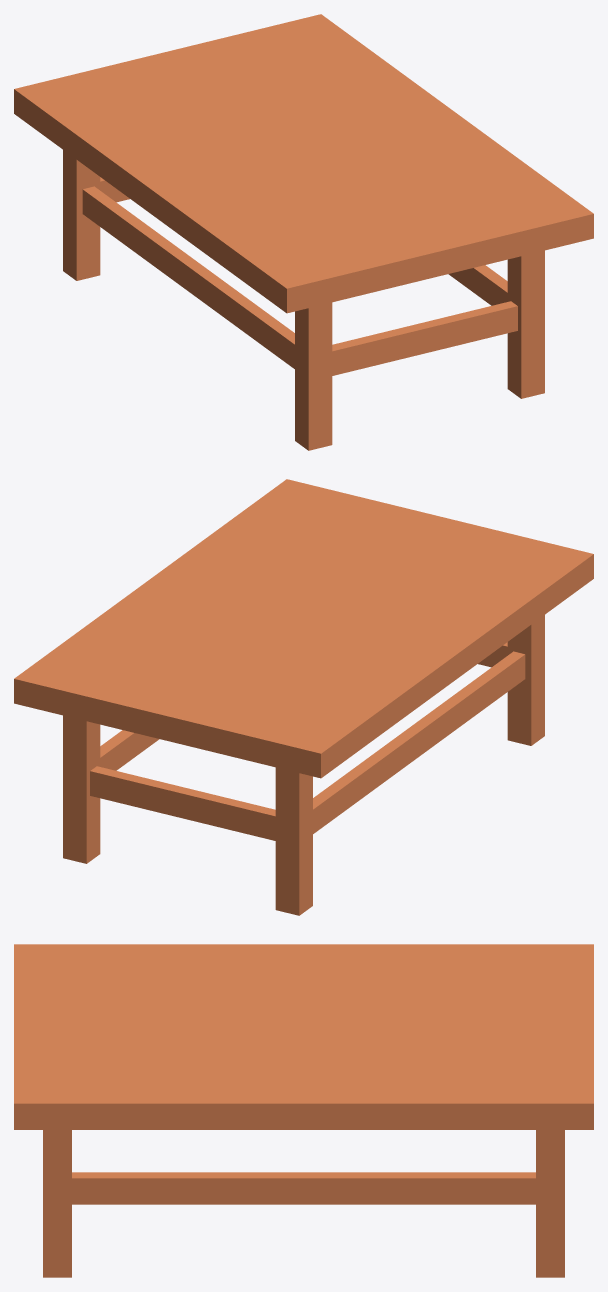
File: d_kenney_etal.glb
3 views of the same model, one above another, from view 1: azimuth 30°, elevation 25°; view 2: azimuth 150°, elevation 25°; view 3: azimuth 270°, elevation 25° (orthographic). The views are drawn at different scales.
Visible parts, largest first — view 1: d_kenney_etal; view 2: d_kenney_etal; view 3: d_kenney_etal.
Boxes of the visible parts, x1,y1,x2,y2 form: d_kenney_etal: (14,14,593,450); d_kenney_etal: (14,479,593,915); d_kenney_etal: (14,944,593,1277).
Bounding box in the file's own units: 0.65 × 0.3655 × 1.
1 material, 1 textured.
